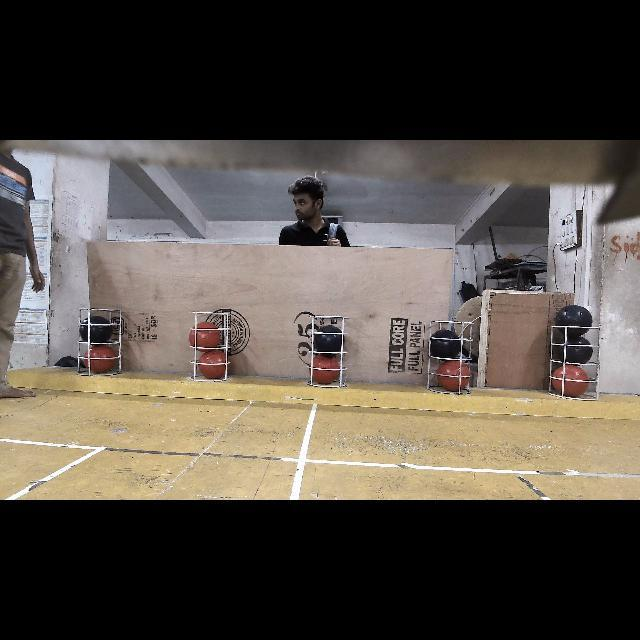P: (555, 305, 592, 338), (558, 336, 594, 364), (312, 326, 343, 356), (428, 332, 460, 358), (82, 318, 114, 344)
R: (553, 366, 589, 396), (194, 348, 226, 380), (437, 362, 469, 390), (86, 346, 118, 372), (310, 356, 338, 384), (190, 323, 218, 351)
S: (546, 316, 602, 396), (76, 300, 128, 378), (428, 318, 478, 399), (190, 307, 237, 393), (303, 312, 349, 392)
